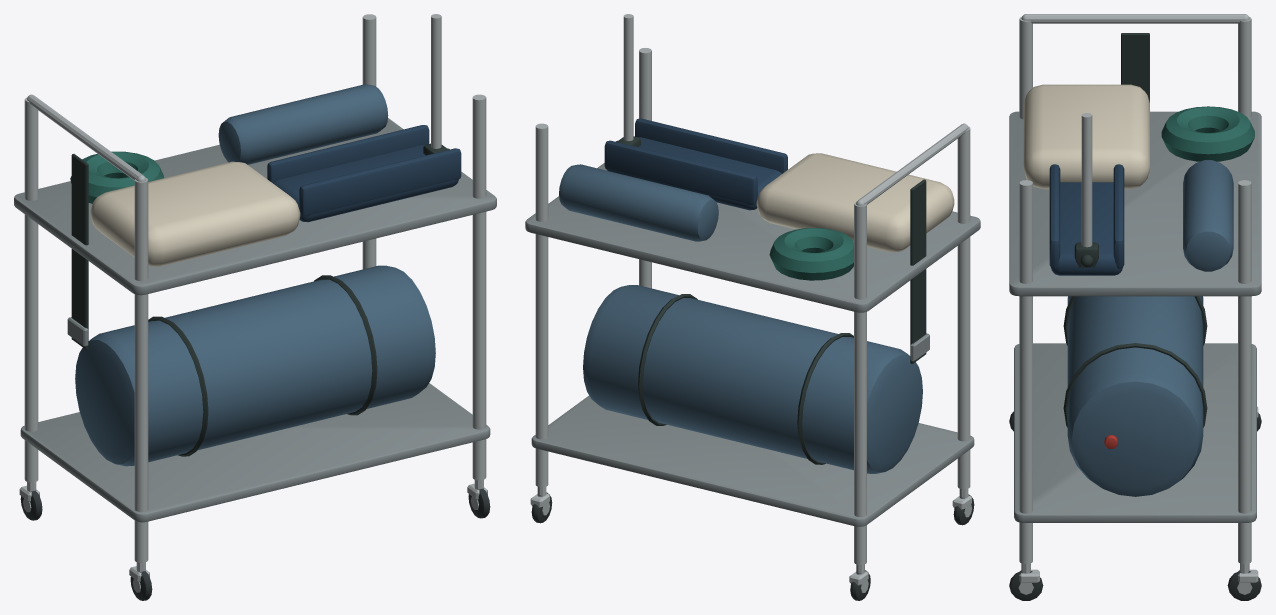
Rendered from sc-lateral-positioning-set.glb.
The picture shows the model from 3 angles, left to right: view 1: azimuth 30°, elevation 25°; view 2: azimuth 150°, elevation 25°; view 3: azimuth 270°, elevation 25°; orthographic projection. The views are drawn at different scales.
Parts seen in each view (by area): view 1: sc-lateral-positioning-set; view 2: sc-lateral-positioning-set; view 3: sc-lateral-positioning-set.
Part boxes in pixels (<box>): sc-lateral-positioning-set: <box>14,14,496,600</box>; sc-lateral-positioning-set: <box>525,14,980,600</box>; sc-lateral-positioning-set: <box>1009,14,1261,600</box>.
Size of the model in its own units: 0.86 by 1.09 by 0.52.
